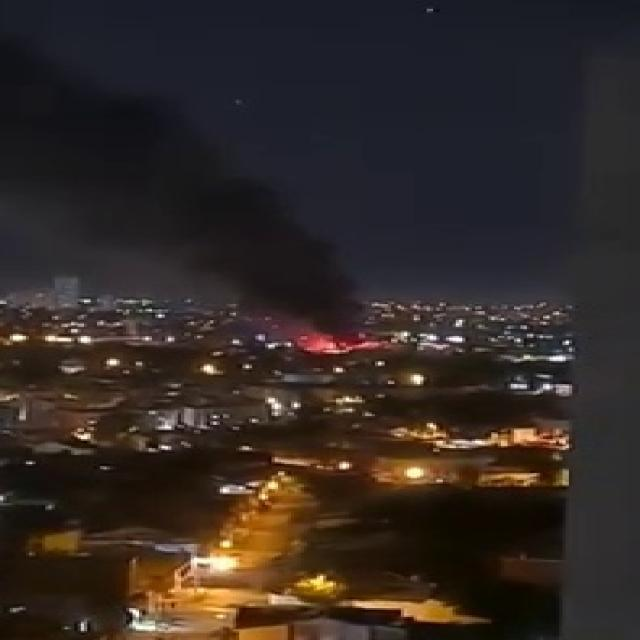Smoke: (13, 30, 391, 354)
